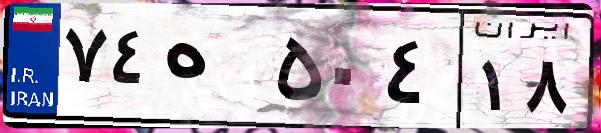0: (330, 28, 385, 110)
1: (475, 38, 525, 113)
4: (385, 28, 445, 110), (110, 28, 158, 98)
5: (270, 28, 330, 110)
7: (57, 26, 110, 100)
8: (525, 38, 570, 115)
ه: (158, 20, 270, 120)
